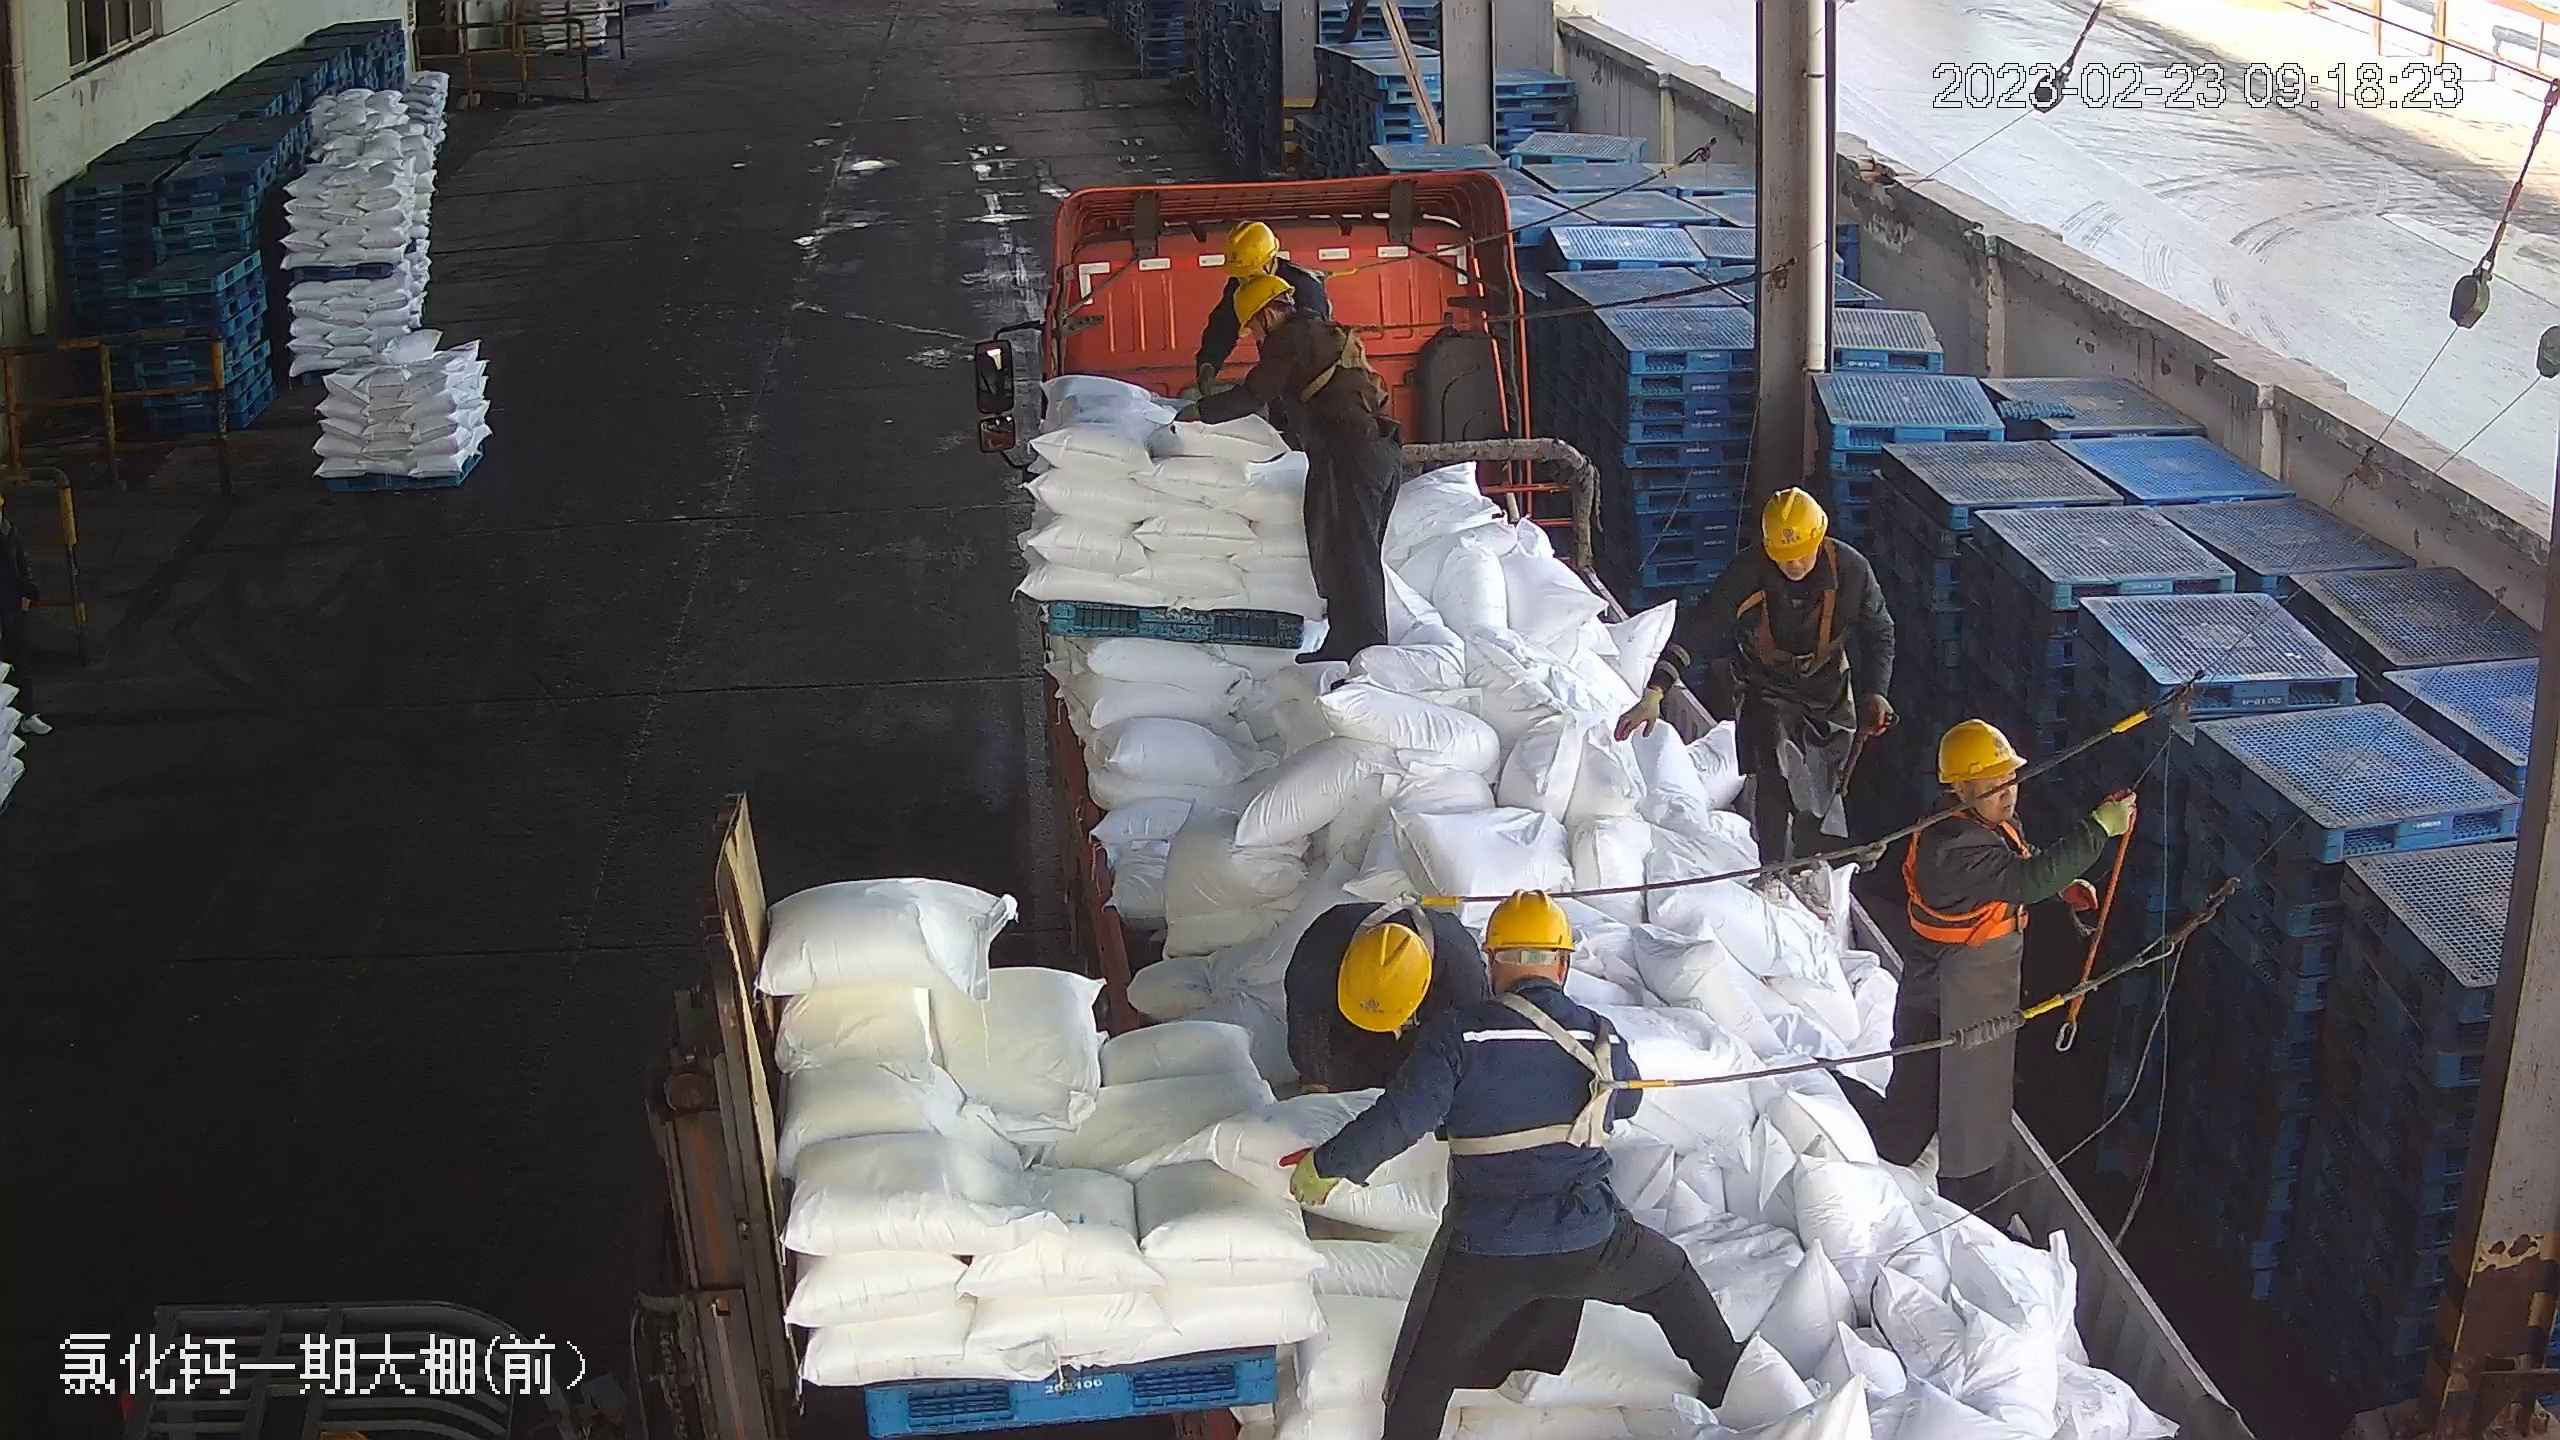belt: (1485, 992, 1671, 1159), (1906, 817, 2031, 951), (1743, 580, 1858, 683), (1285, 325, 1396, 409), (1349, 882, 1447, 946), (1288, 255, 1356, 315)
head: (1454, 886, 1618, 1067), (1903, 716, 2048, 879), (1725, 485, 1873, 618), (1233, 273, 1347, 383)
helmet: (1460, 891, 1597, 1015), (1337, 923, 1432, 1032), (1474, 888, 1577, 952), (1930, 714, 2025, 782), (1756, 482, 1831, 558), (1225, 274, 1290, 331), (1219, 215, 1283, 269)
people: (1305, 883, 1739, 1440), (1879, 718, 2140, 1227), (1611, 484, 1896, 914), (1190, 276, 1407, 680)
truck: (985, 166, 2243, 1440)
